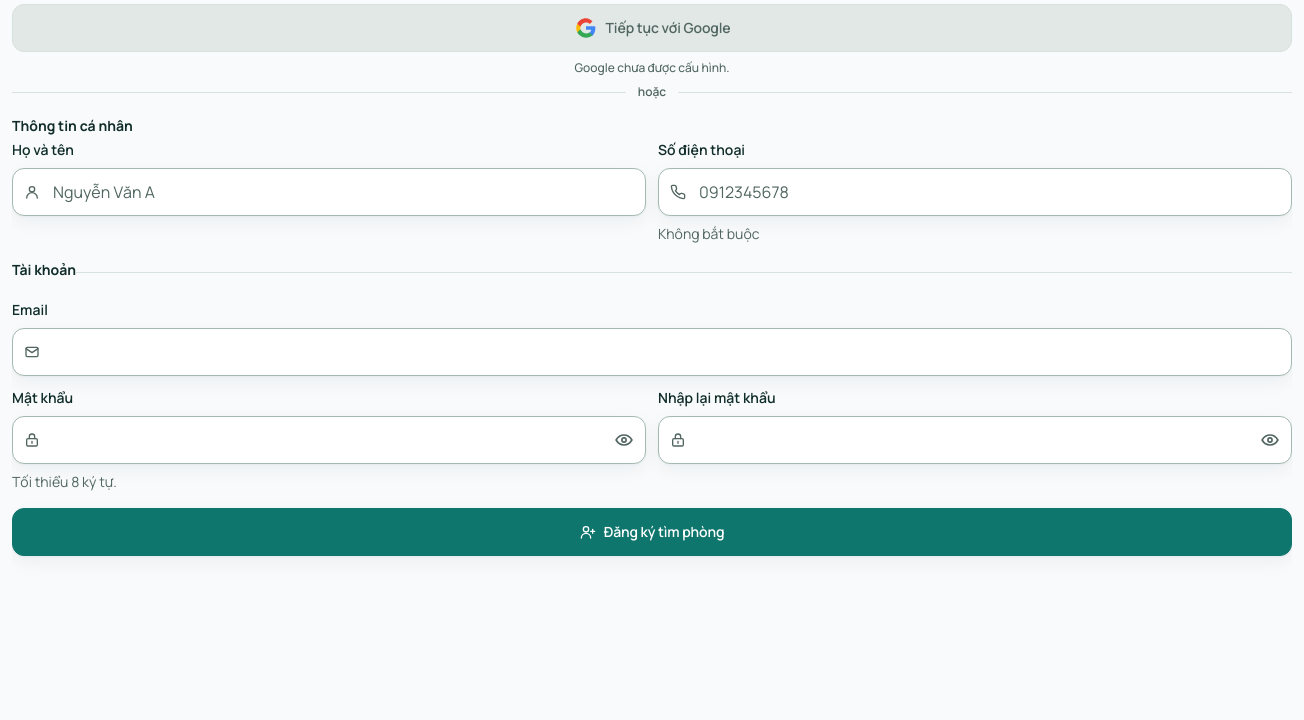
RegistrationForm › keeps both accessible password toggles available while switching visibility
Click the 1st button named "Hiện mật khẩu" at [624, 440], box [602,416,646,464]
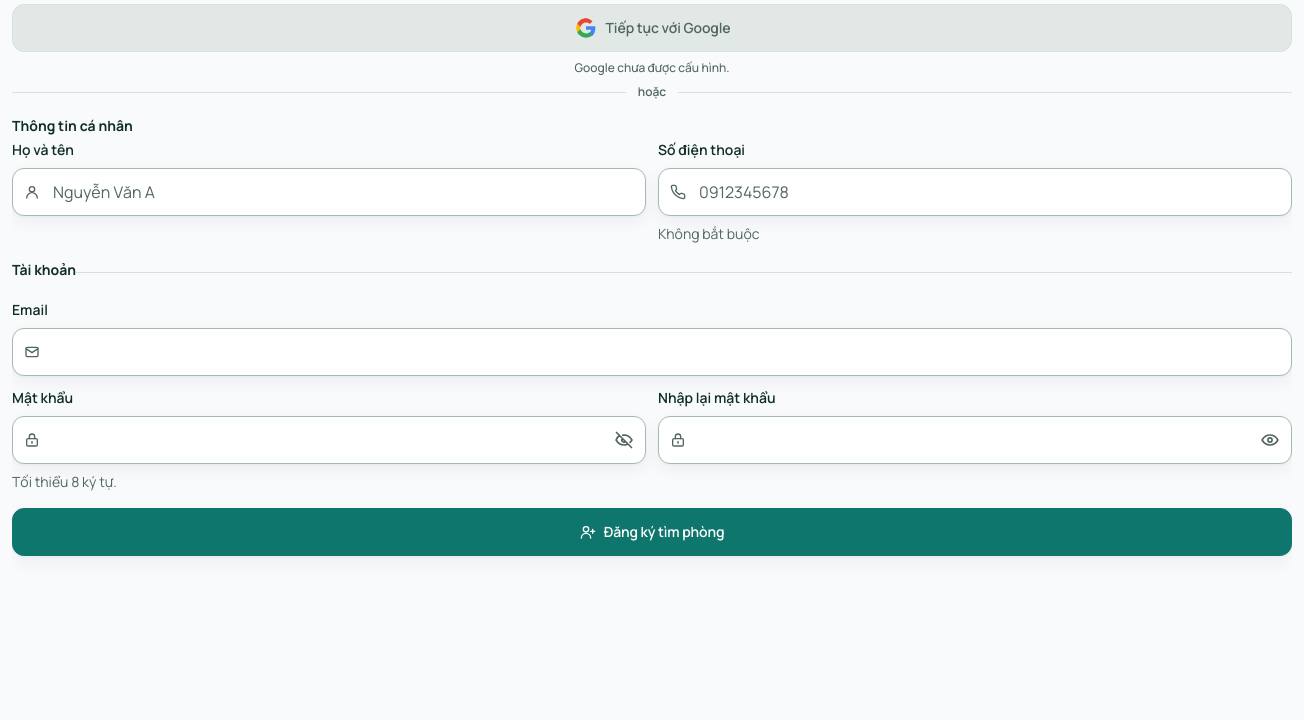
Expected: the button named "Hiện mật khẩu" is shown, [1248,416,1292,464]
Result: the button named "Ẩn mật khẩu" is shown at [602,416,646,464]
